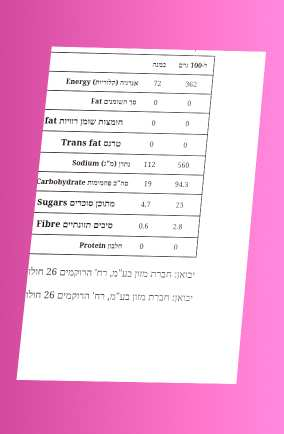carbs: (173, 178, 190, 191)
energy: (184, 78, 199, 90)
fat: (186, 97, 193, 109)
protein: (172, 241, 179, 253)
